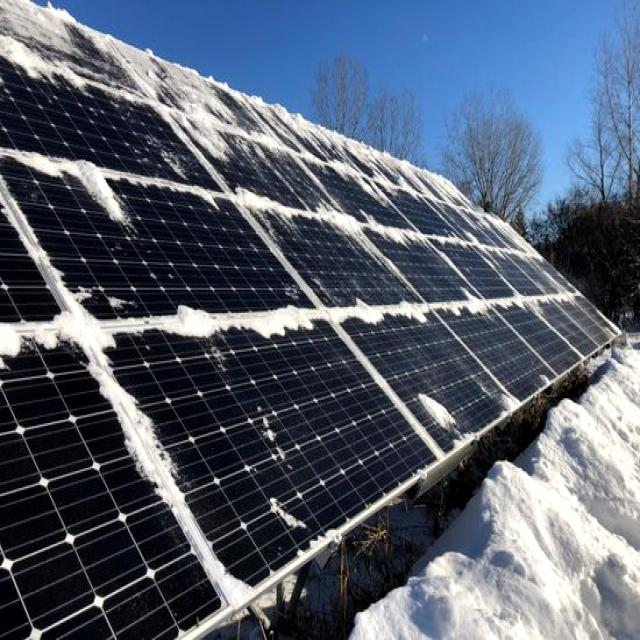panel: (82, 350, 240, 620), (96, 292, 334, 356), (0, 143, 173, 224), (0, 203, 86, 350), (78, 47, 224, 132), (230, 188, 400, 246), (413, 196, 545, 270), (232, 116, 368, 185), (338, 275, 458, 334), (378, 138, 480, 203), (0, 0, 67, 80), (468, 280, 590, 320), (399, 378, 474, 441), (178, 167, 221, 213)
